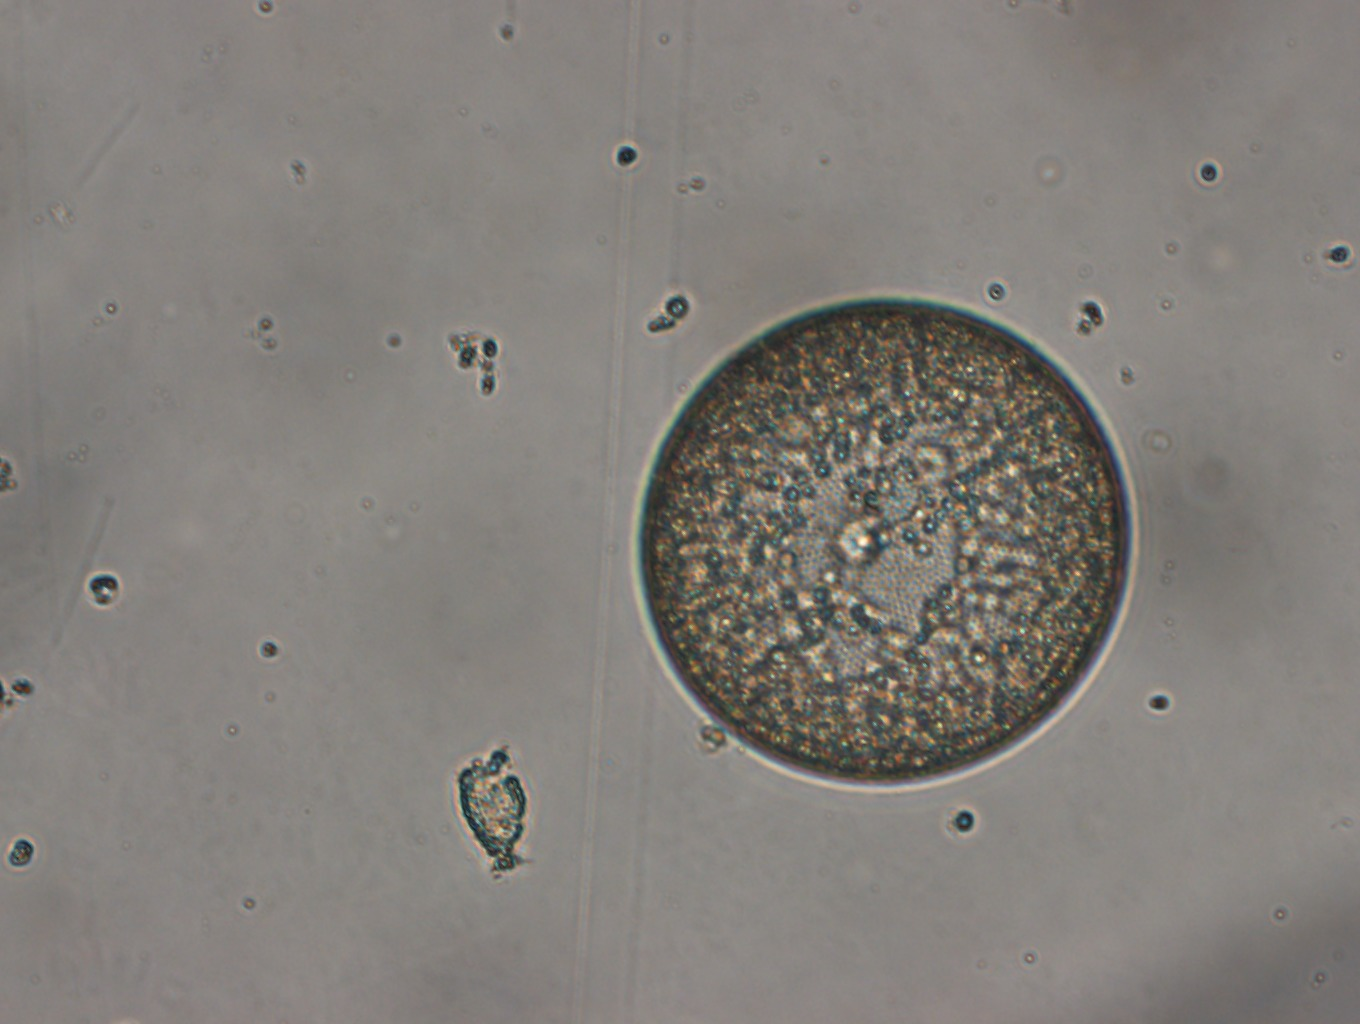coscinodiscus: (632, 291, 1137, 794)
